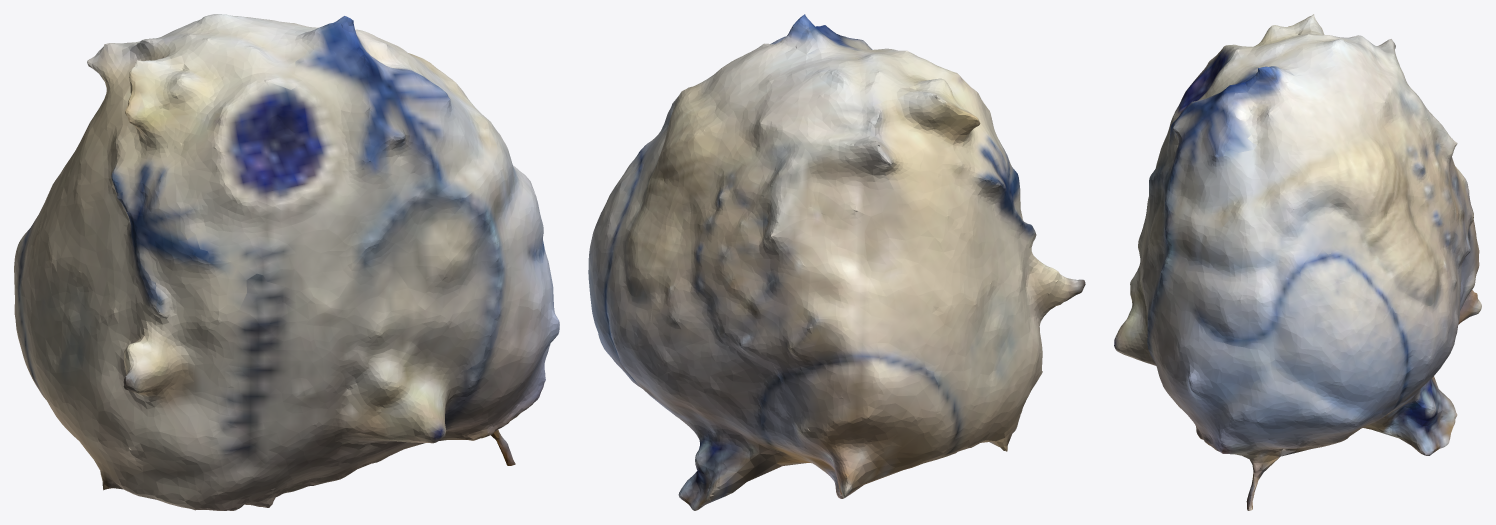
Rendered from HYPERLINK.glb.
3 views of the same model, side by side, from view 1: azimuth 30°, elevation 25°; view 2: azimuth 150°, elevation 25°; view 3: azimuth 270°, elevation 25° (orthographic). The views are drawn at different scales.
Visible parts, largest first — view 1: mesh; view 2: mesh; view 3: mesh.
Part boxes in pixels (x1,y1,x2,y2): mesh: (14, 14, 559, 510); mesh: (588, 14, 1085, 510); mesh: (1114, 14, 1481, 510).
Bounding box in the file's own units: 0.0724 × 0.071 × 0.0619.
1 material, 1 textured.
